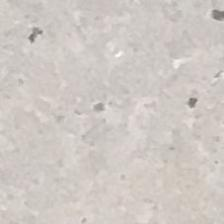Non_Crack: (18, 4, 224, 224)
